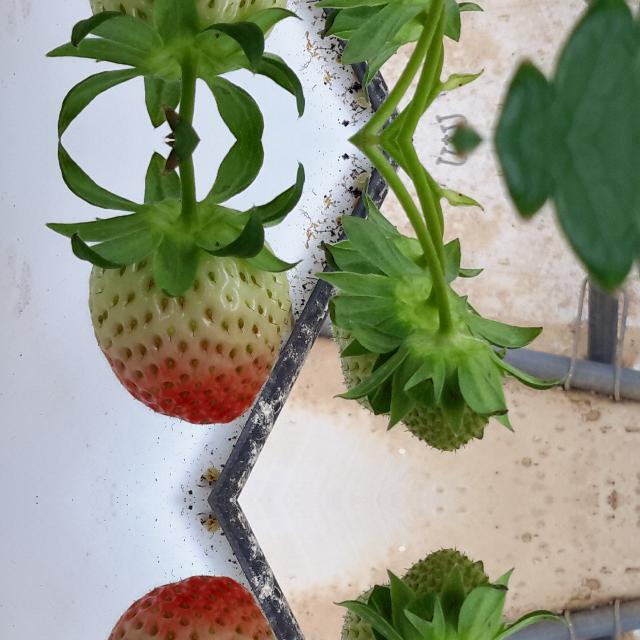Health_50: (88, 238, 292, 426), (88, 574, 292, 640), (88, 0, 292, 41)
